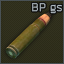9x39mm BP gs: (0, 0, 64, 64)
